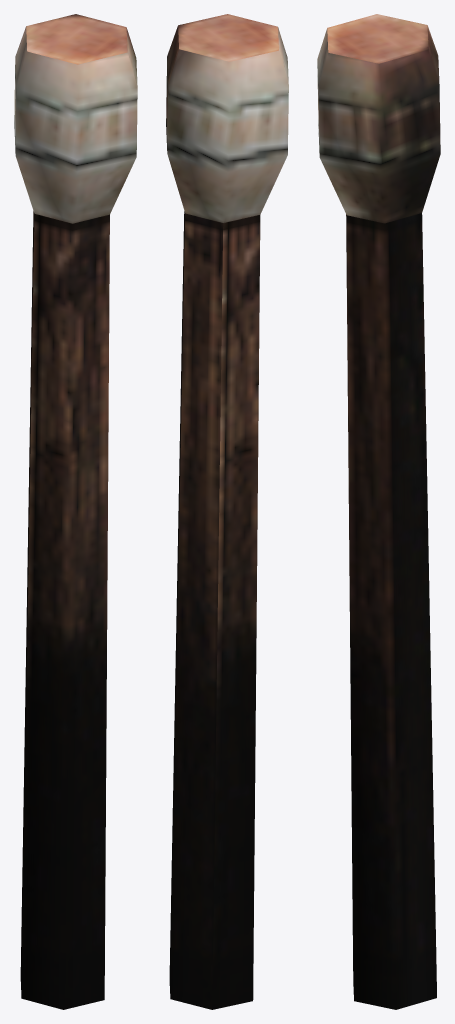
Rendered from elevator_machine_coal_lever.dae.
3 views of the same model, side by side, from view 1: azimuth 90°, elevation 25°; view 2: azimuth 150°, elevation 25°; view 3: azimuth 330°, elevation 25° (orthographic).
Parts seen in each view (by area): view 1: lever_01; view 2: lever_01; view 3: lever_01.
Boxes of the visible parts, <box> form: lever_01: <box>14,14,137,1009</box>; lever_01: <box>166,14,288,1009</box>; lever_01: <box>317,14,440,1009</box>.
Size of the model in its own units: 0.1337 by 1 by 0.1172.
